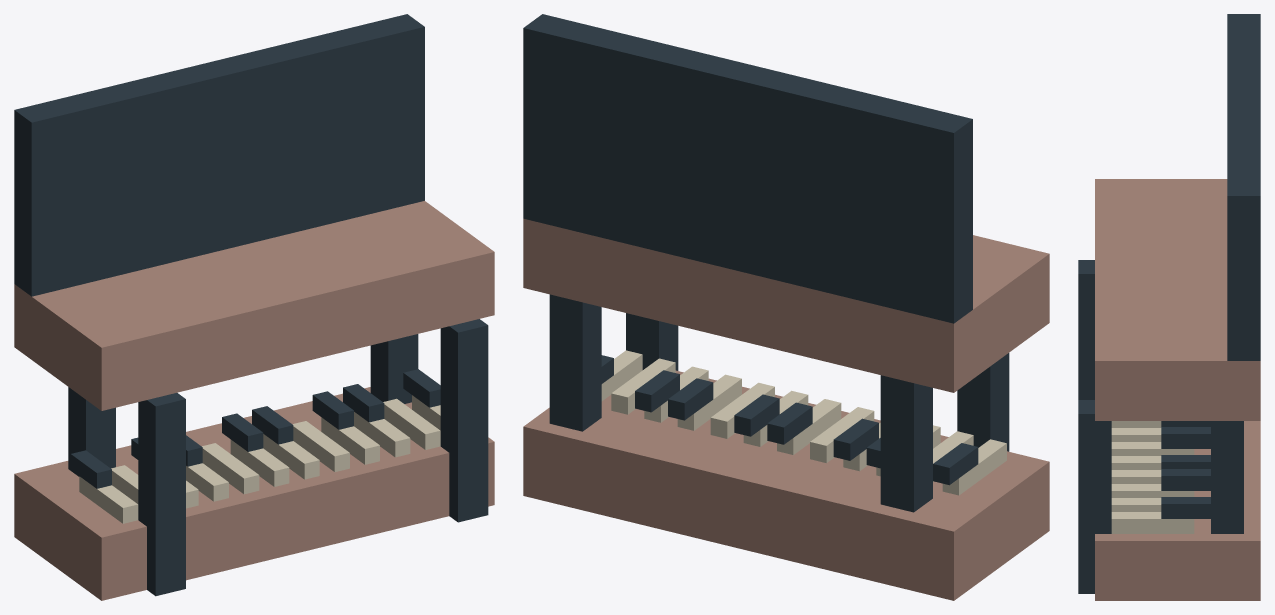
The model's file is hospitality-20.glb.
3 renders of one model, left to right at view 1: azimuth 30°, elevation 25°; view 2: azimuth 150°, elevation 25°; view 3: azimuth 270°, elevation 25°, orthographic. The views are drawn at different scales.
Parts seen in each view (by area): view 1: Grand piano; view 2: Grand piano; view 3: Grand piano.
Boxes of the visible parts, <box> form: Grand piano: <box>14,14,494,600</box>; Grand piano: <box>523,14,1049,600</box>; Grand piano: <box>1078,14,1260,600</box>.
Size of the model in its own units: 2.08 by 2.16 by 0.88.
